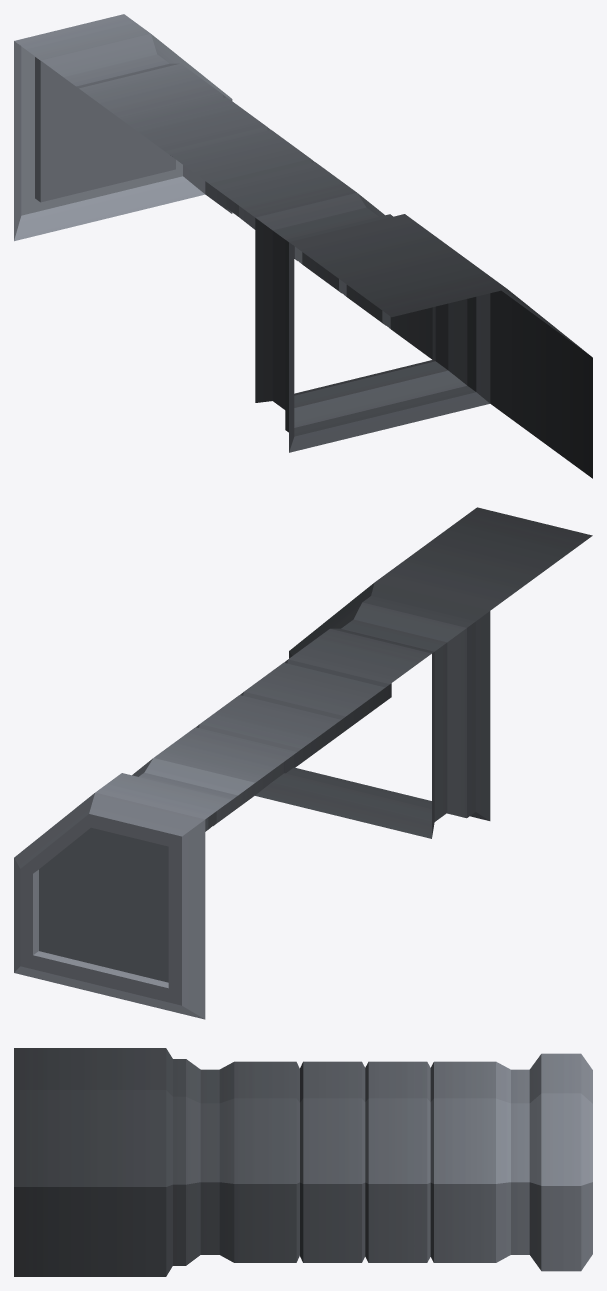
The model's file is Pillar 04.FBX.
3 renders of one model, top to bottom at view 1: azimuth 30°, elevation 25°; view 2: azimuth 150°, elevation 25°; view 3: azimuth 270°, elevation 25°, orthographic. The views are drawn at different scales.
Visible parts, largest first — view 1: Pillar 04; view 2: Pillar 04; view 3: Pillar 04.
Part boxes in pixels (x1,y1,x2,y2): Pillar 04: (14,14,592,478); Pillar 04: (14,507,592,1019); Pillar 04: (14,1048,592,1276).
Size of the model in its own units: 173 by 173 by 581.
